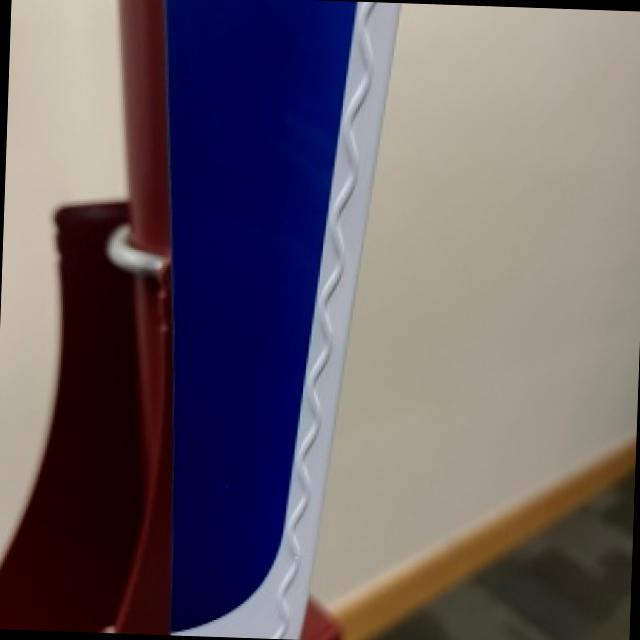healthy: (0, 0, 402, 637)
